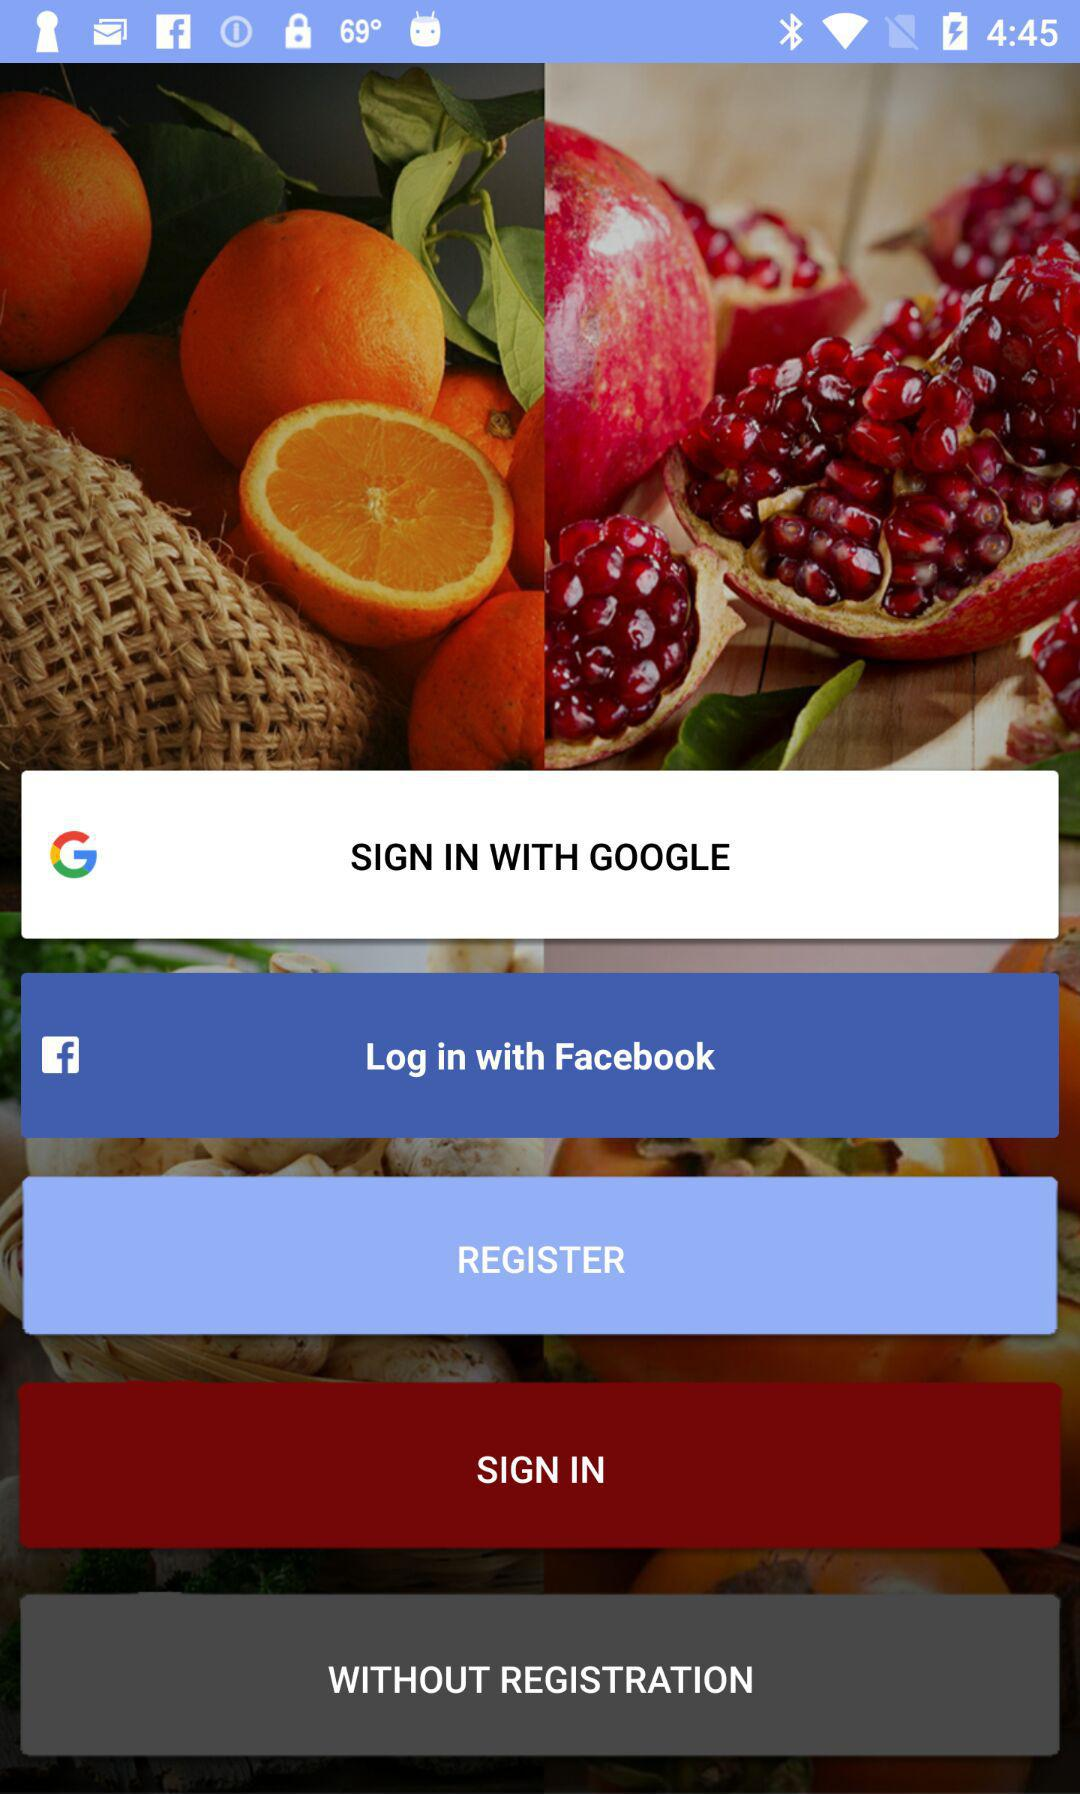BackgroundImage: (1, 64, 1080, 1794)
TextButton: (20, 770, 1060, 941), (19, 1381, 1061, 1549), (20, 973, 1060, 1139), (20, 1593, 1060, 1757), (22, 1175, 1060, 1337)
UpperTaskBar: (1, 1, 1080, 64)
